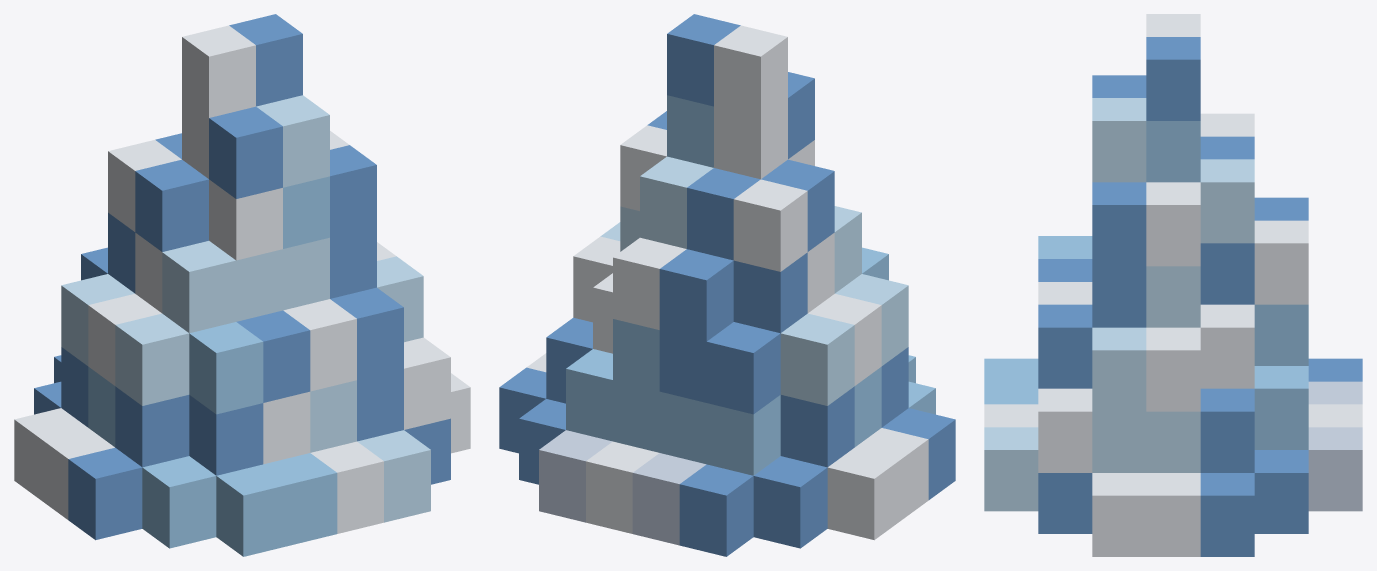
File: Iceberg.glb
The picture shows the model from 3 angles, left to right: view 1: azimuth 30°, elevation 25°; view 2: azimuth 150°, elevation 25°; view 3: azimuth 270°, elevation 25°; orthographic projection.
Visible parts, largest first — view 1: Iceberg; view 2: Iceberg; view 3: Iceberg.
Part boxes in pixels (x1=…): Iceberg: x1=14, y1=14, x2=470, y2=556; Iceberg: x1=499, y1=14, x2=955, y2=556; Iceberg: x1=984, y1=14, x2=1362, y2=556.
Bounding box in the file's own units: 16 × 17.5 × 14.
Materials: 1 (1 with a texture image).
